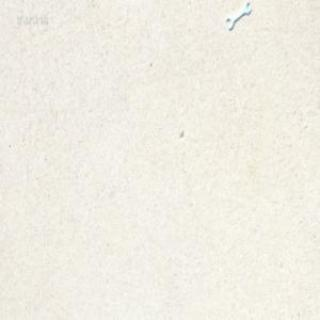Wrenchtrack_idkeyframe: (223, 1, 249, 30)
